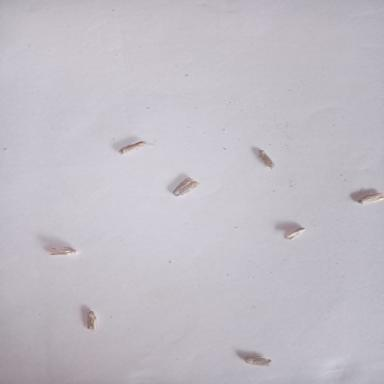pbw: (172, 177, 200, 196), (119, 141, 151, 155), (243, 356, 272, 368), (258, 149, 275, 169), (358, 191, 384, 204), (47, 246, 79, 256), (287, 227, 305, 240), (85, 310, 96, 330)
